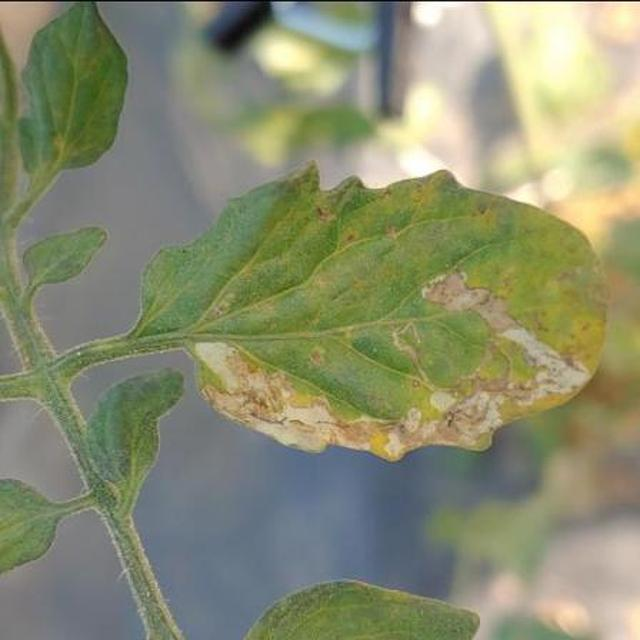Leaf Miner: (208, 224, 640, 640)
